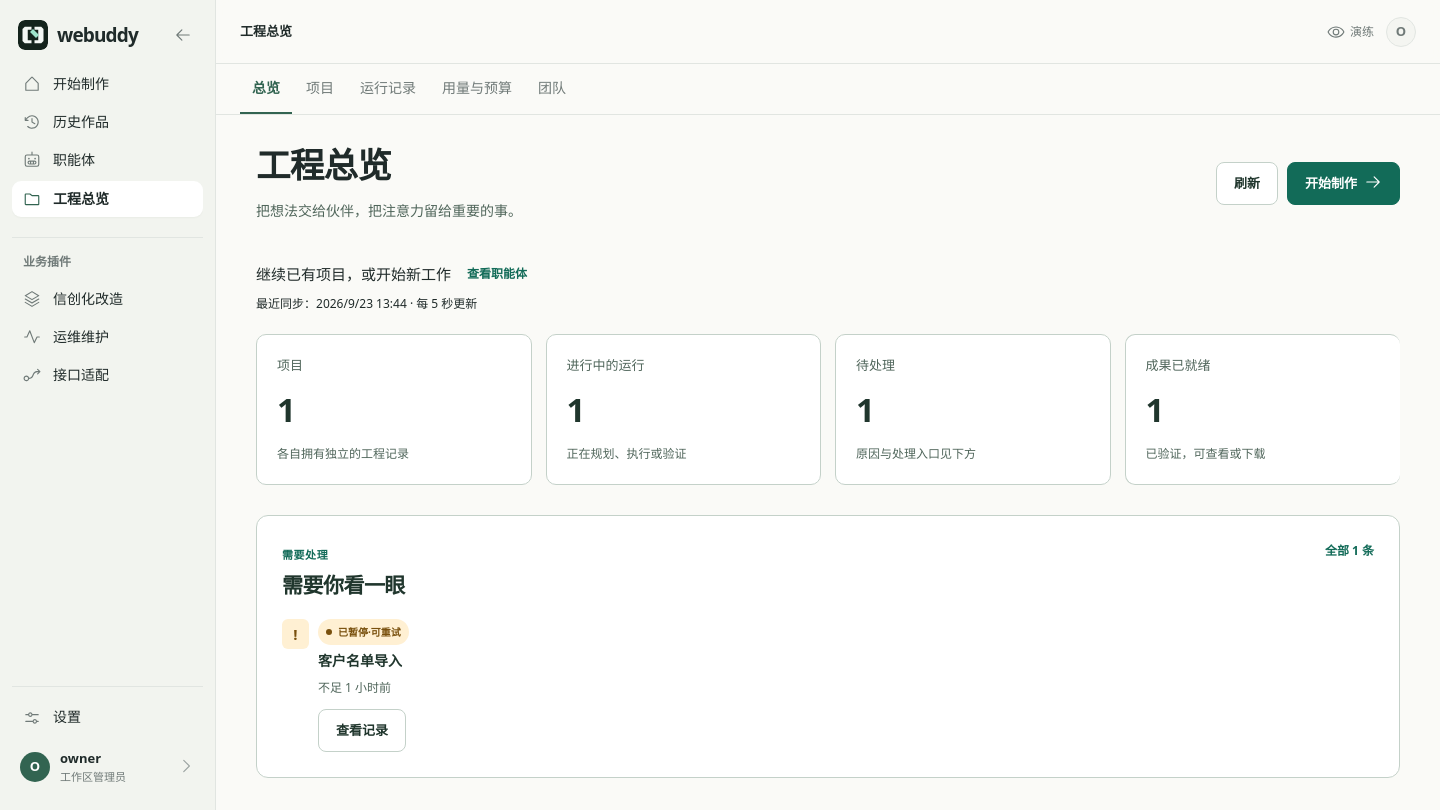
keeps one shell mounted across navigation instead of swapping frames
The image size is (1440, 810).
Expected: the heading "工程总览" is shown, [256,141,391,188]
Click the link labelled "历史作品" at x=66, y=122, box [23,112,109,131]
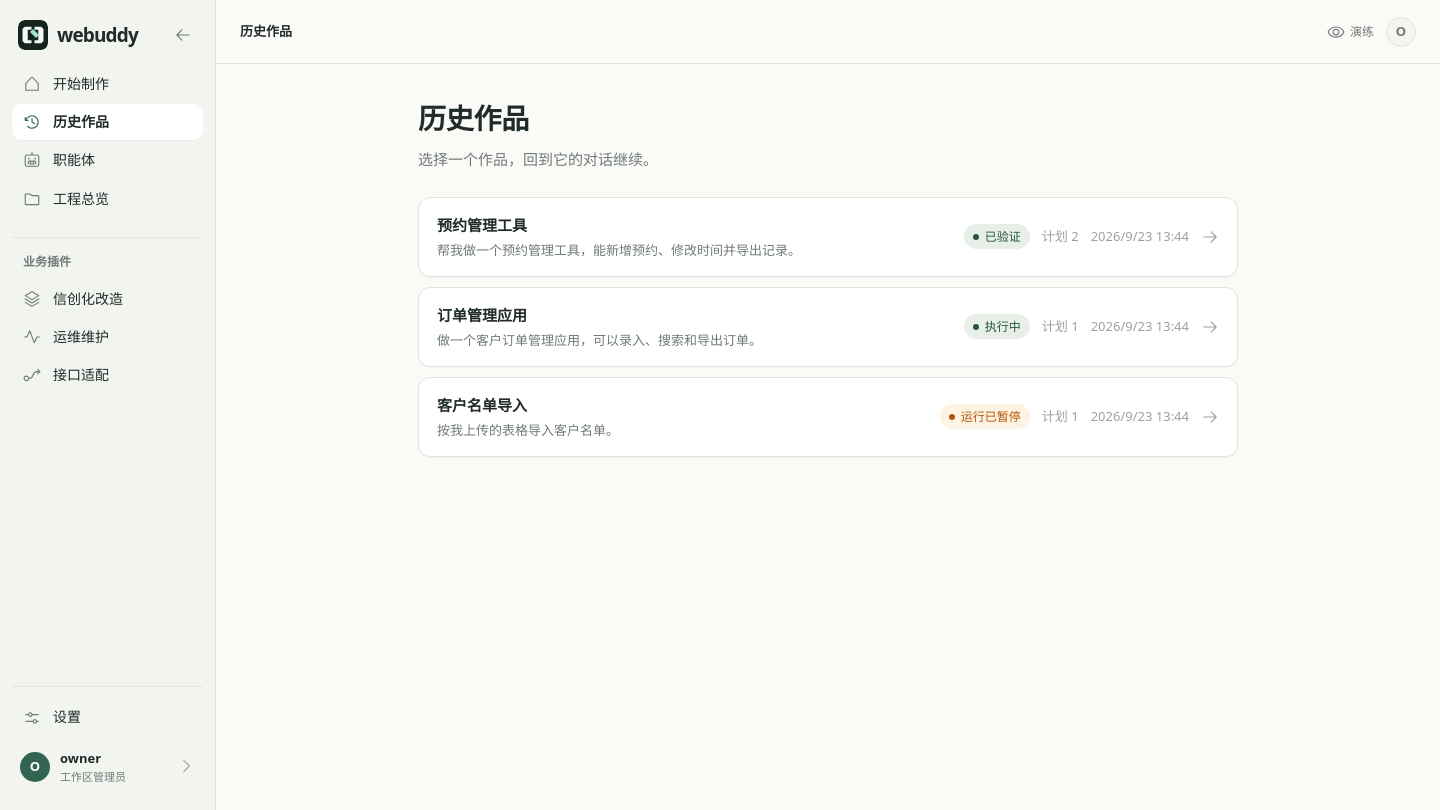
Result: the heading "历史作品" is shown at [418,99,529,137]
Click the link labelled "设置" at x=52, y=717, box [23,707,81,726]
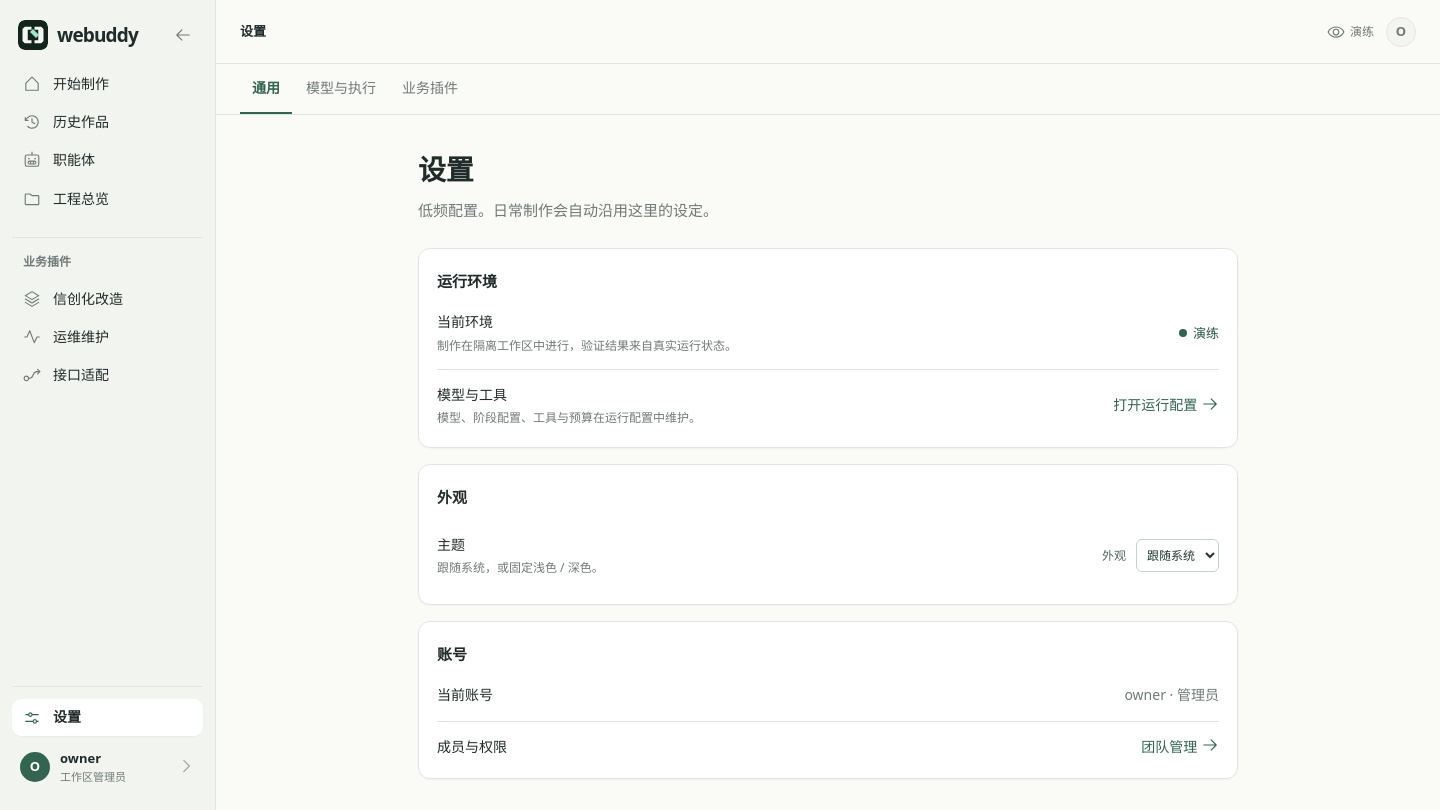
Result: the heading "设置" is shown at [418,150,474,188]
